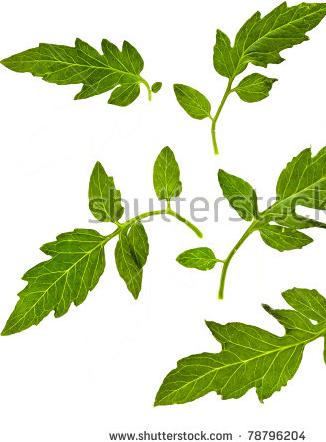Tomato leaf: (3, 142, 193, 340), (150, 249, 326, 424), (181, 0, 326, 194), (217, 120, 326, 290), (0, 30, 170, 119)
